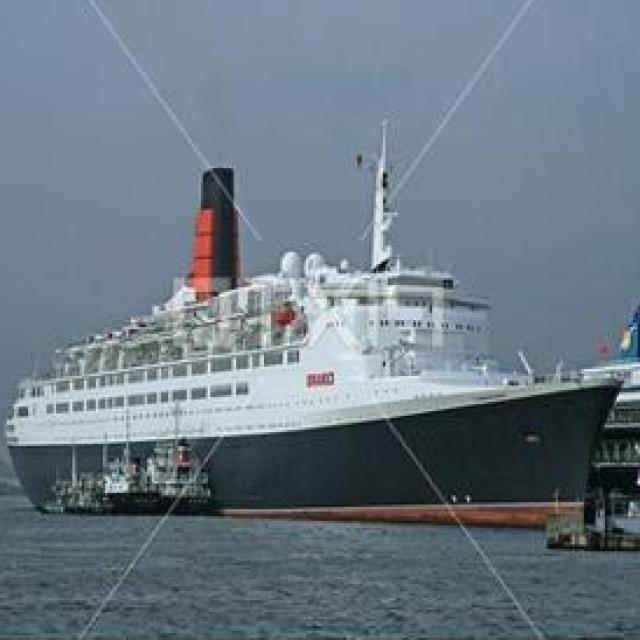houseboat: (39, 431, 211, 516)
passenger ship: (8, 160, 620, 518)
